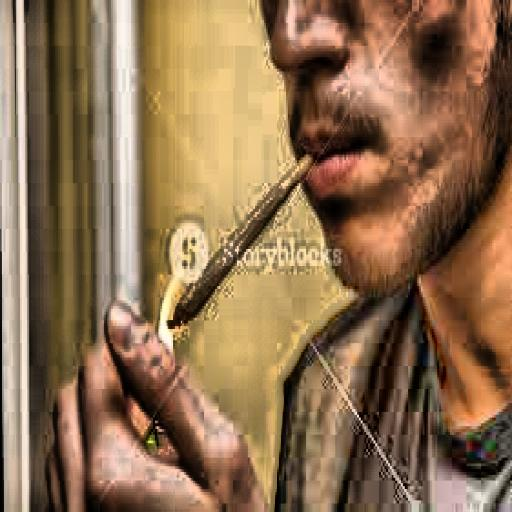fire: (150, 274, 190, 358)
